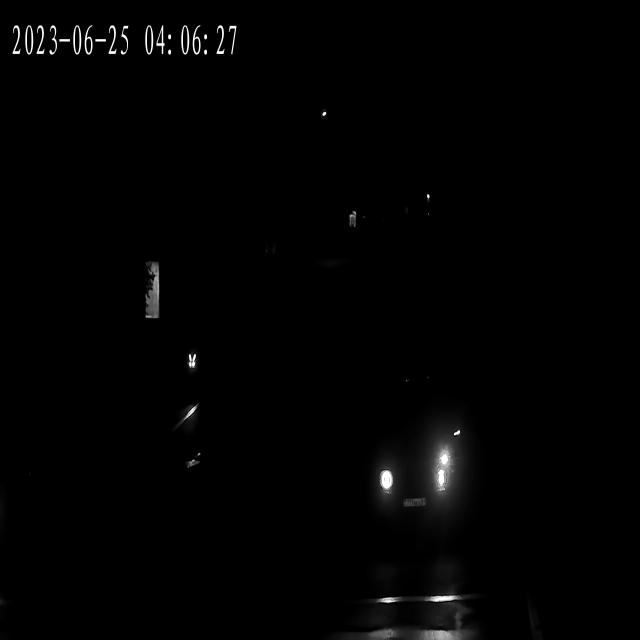Car: (374, 410, 464, 546)
